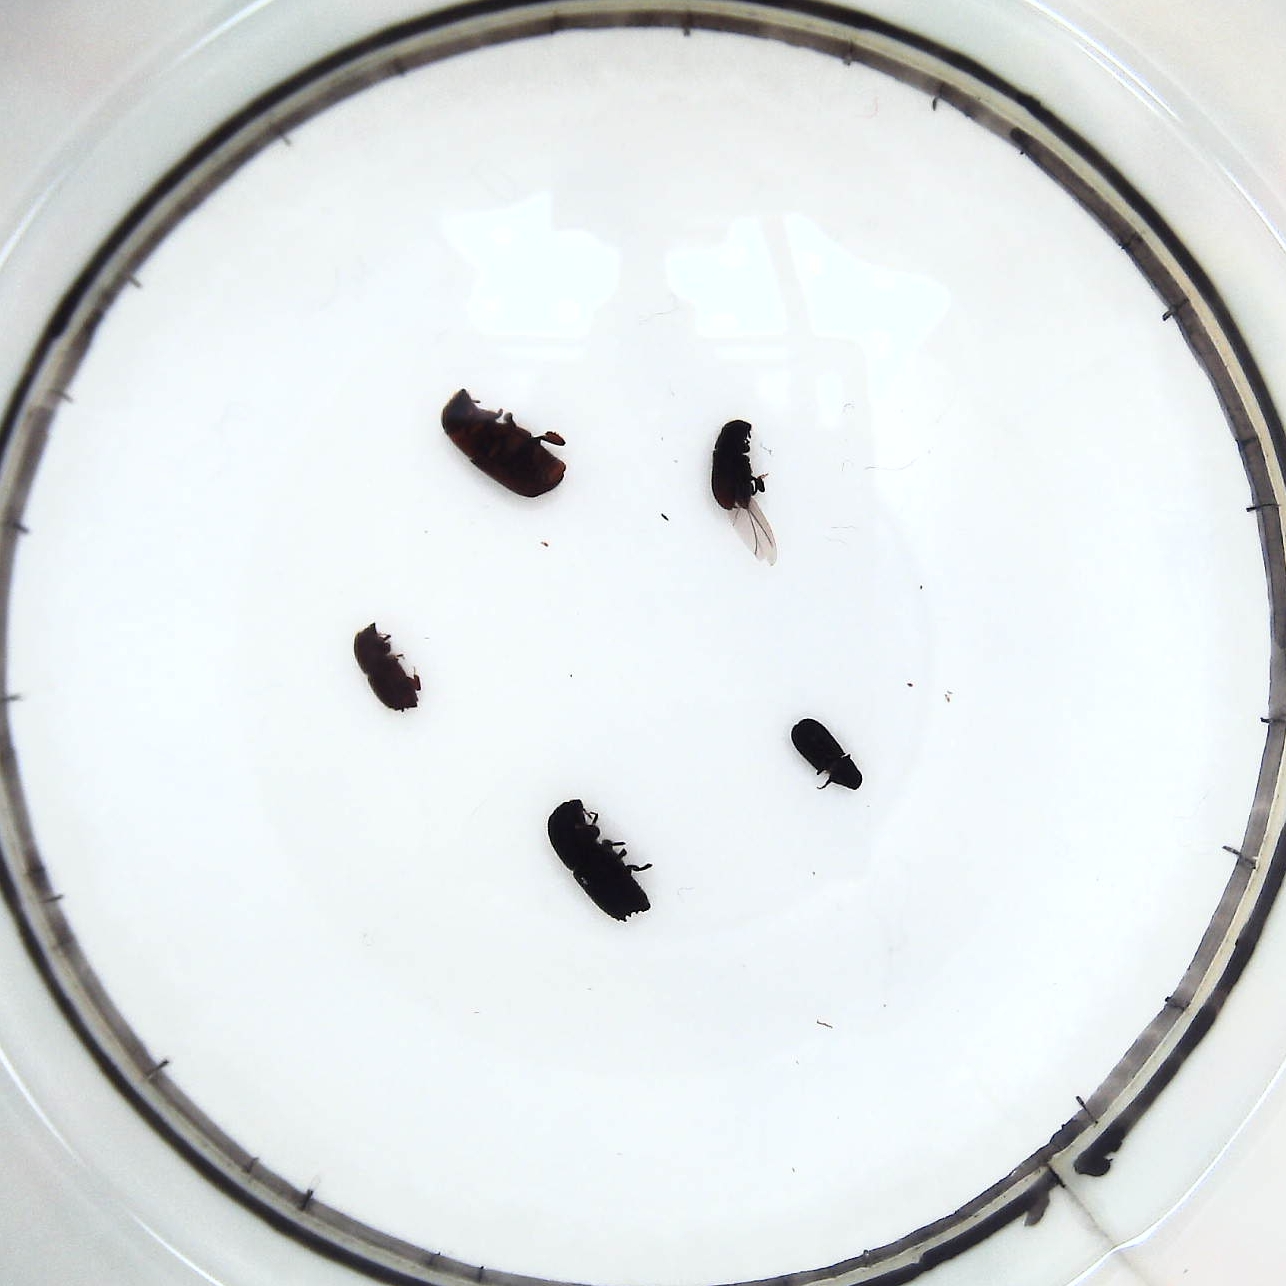Boerner: (543, 791, 656, 928)
Leconte: (435, 379, 574, 504)
armandi: (709, 416, 783, 574)
coleoptera: (783, 711, 863, 798)
linnaeus: (351, 618, 426, 718)
